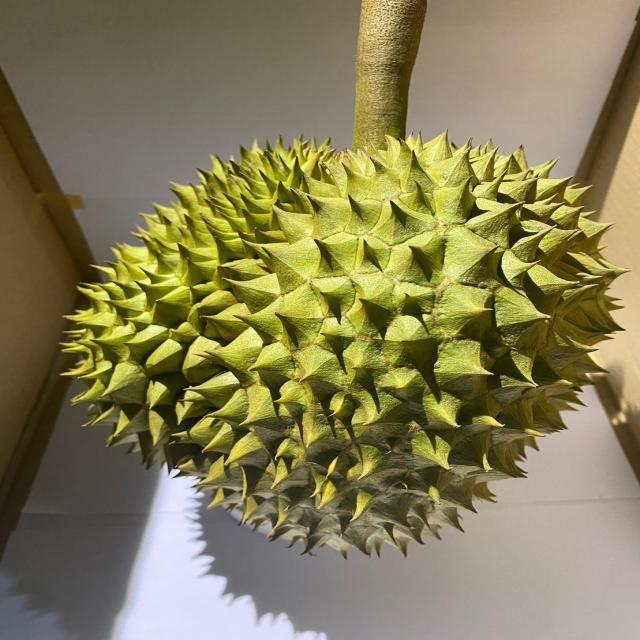immature: (66, 132, 627, 560)
